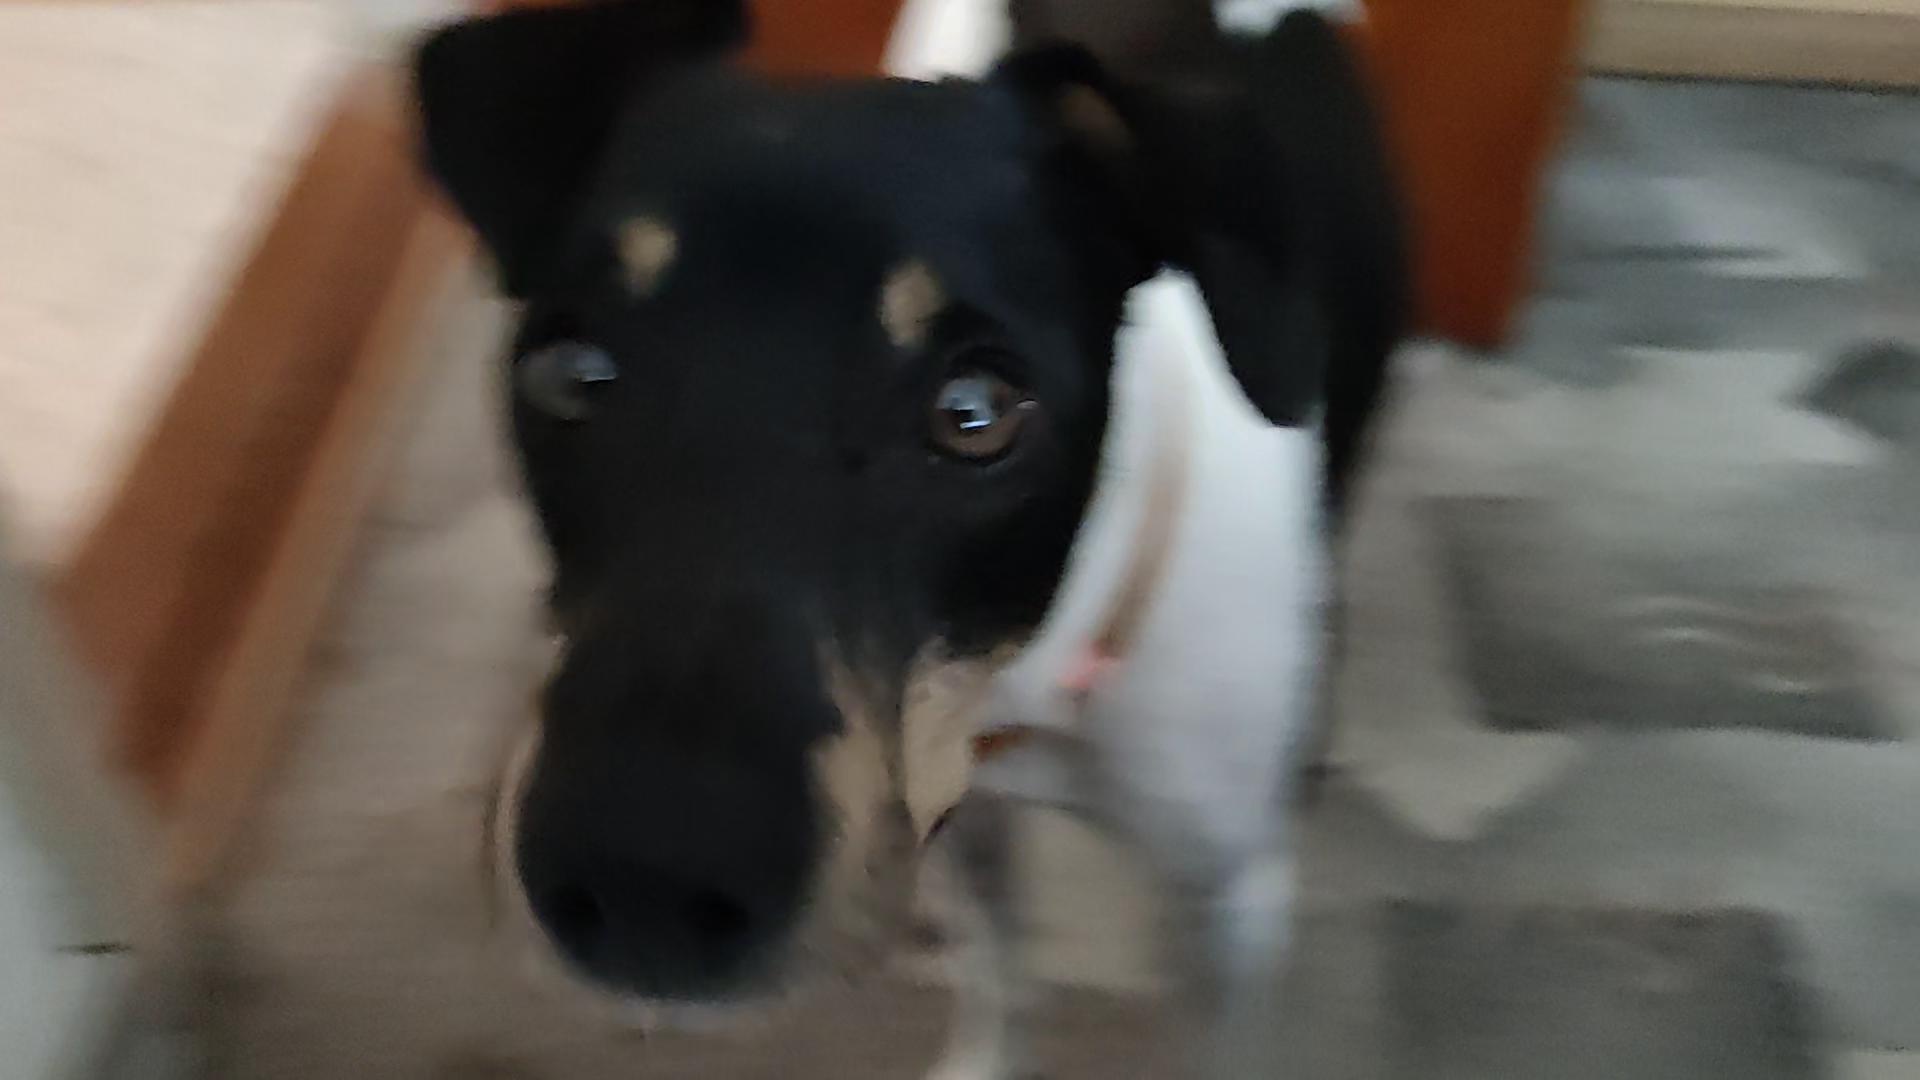Dog: (359, 0, 1460, 1079)
